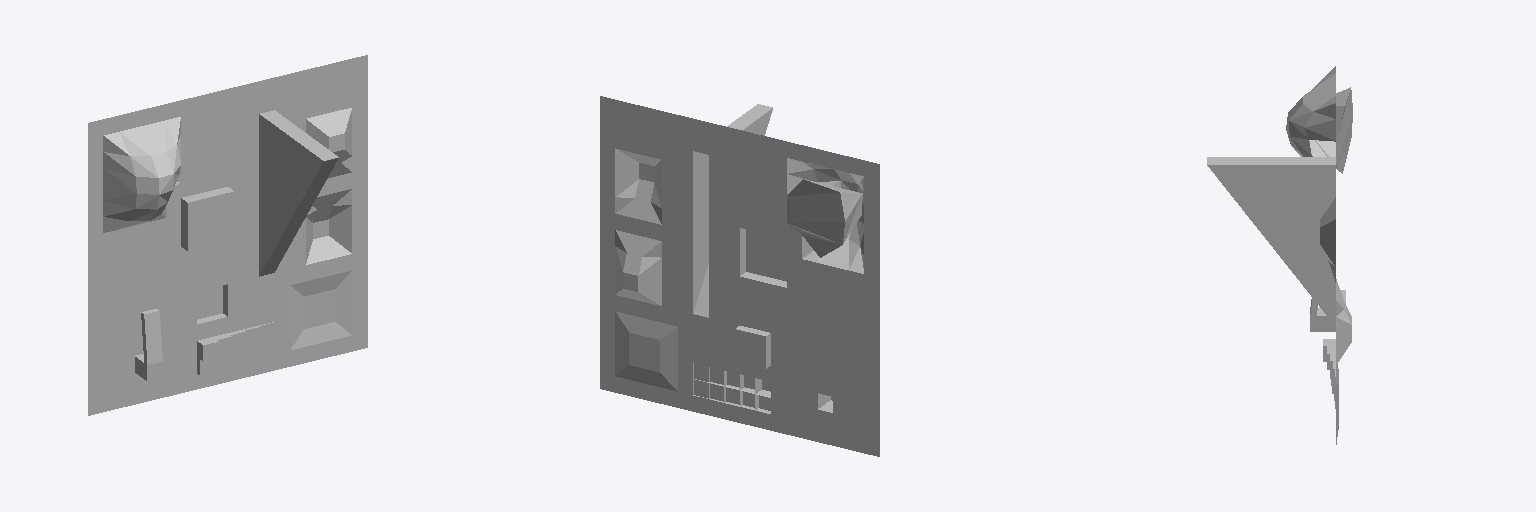
File: TestChunk.obj
3 views of the same model, side by side, from view 1: azimuth 30°, elevation 25°; view 2: azimuth 150°, elevation 25°; view 3: azimuth 270°, elevation 25° (orthographic).
Size of the model in its own units: 50 by 50 by 22.63.